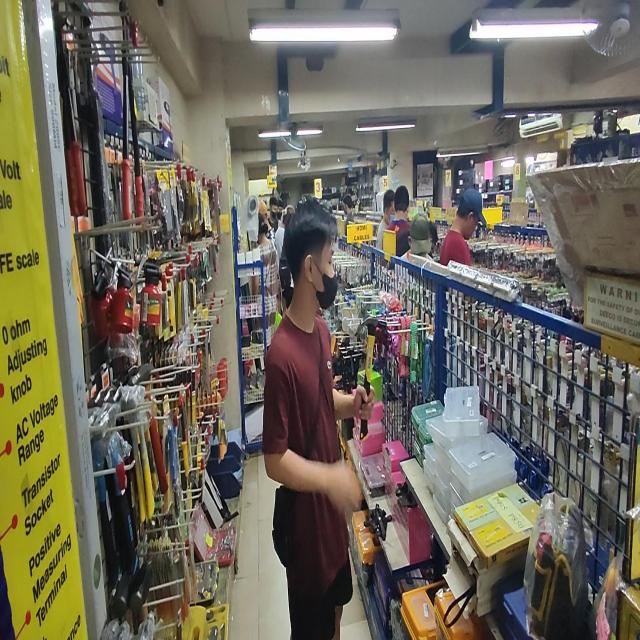hammer: (357, 316, 387, 441)
